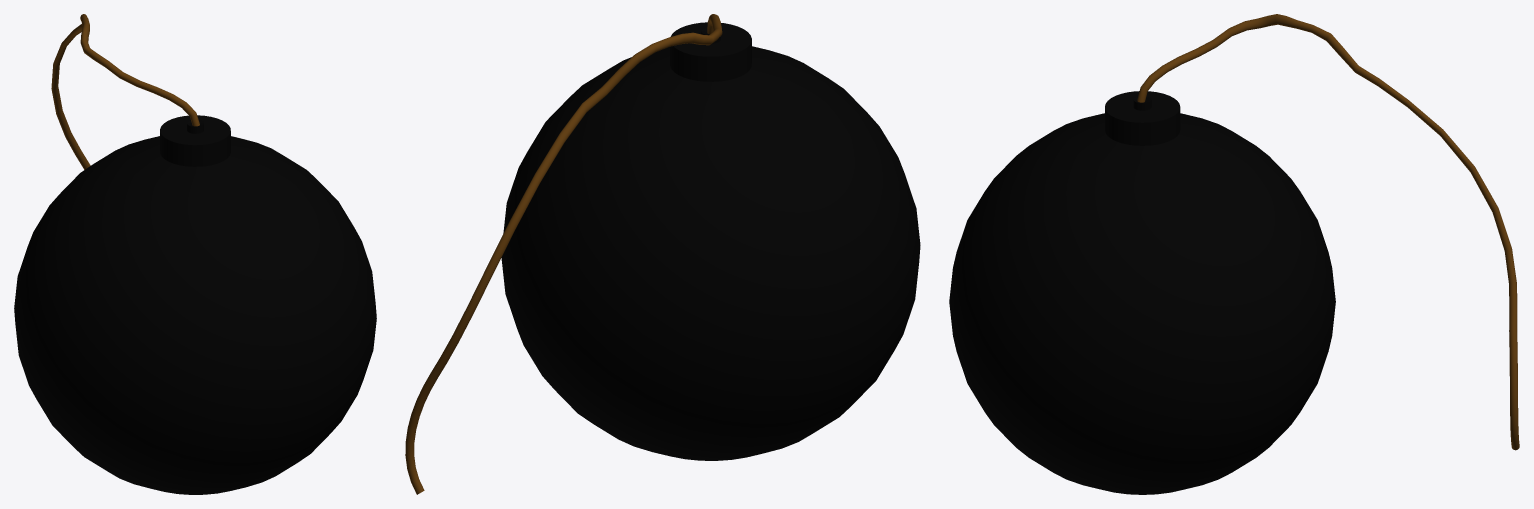
Rendered from Bomb_SphericType.fbx.
3 renders of one model, left to right at view 1: azimuth 30°, elevation 25°; view 2: azimuth 150°, elevation 25°; view 3: azimuth 270°, elevation 25°, orthographic. The views are drawn at different scales.
Parts seen in each view (by area): view 1: Sphere; view 2: Sphere; view 3: Sphere.
Boxes of the visible parts, x1,y1,x2,y2 form: Sphere: (14, 14, 376, 494); Sphere: (405, 14, 920, 494); Sphere: (949, 14, 1519, 494).
Size of the model in its own units: 200 by 250 by 295.
